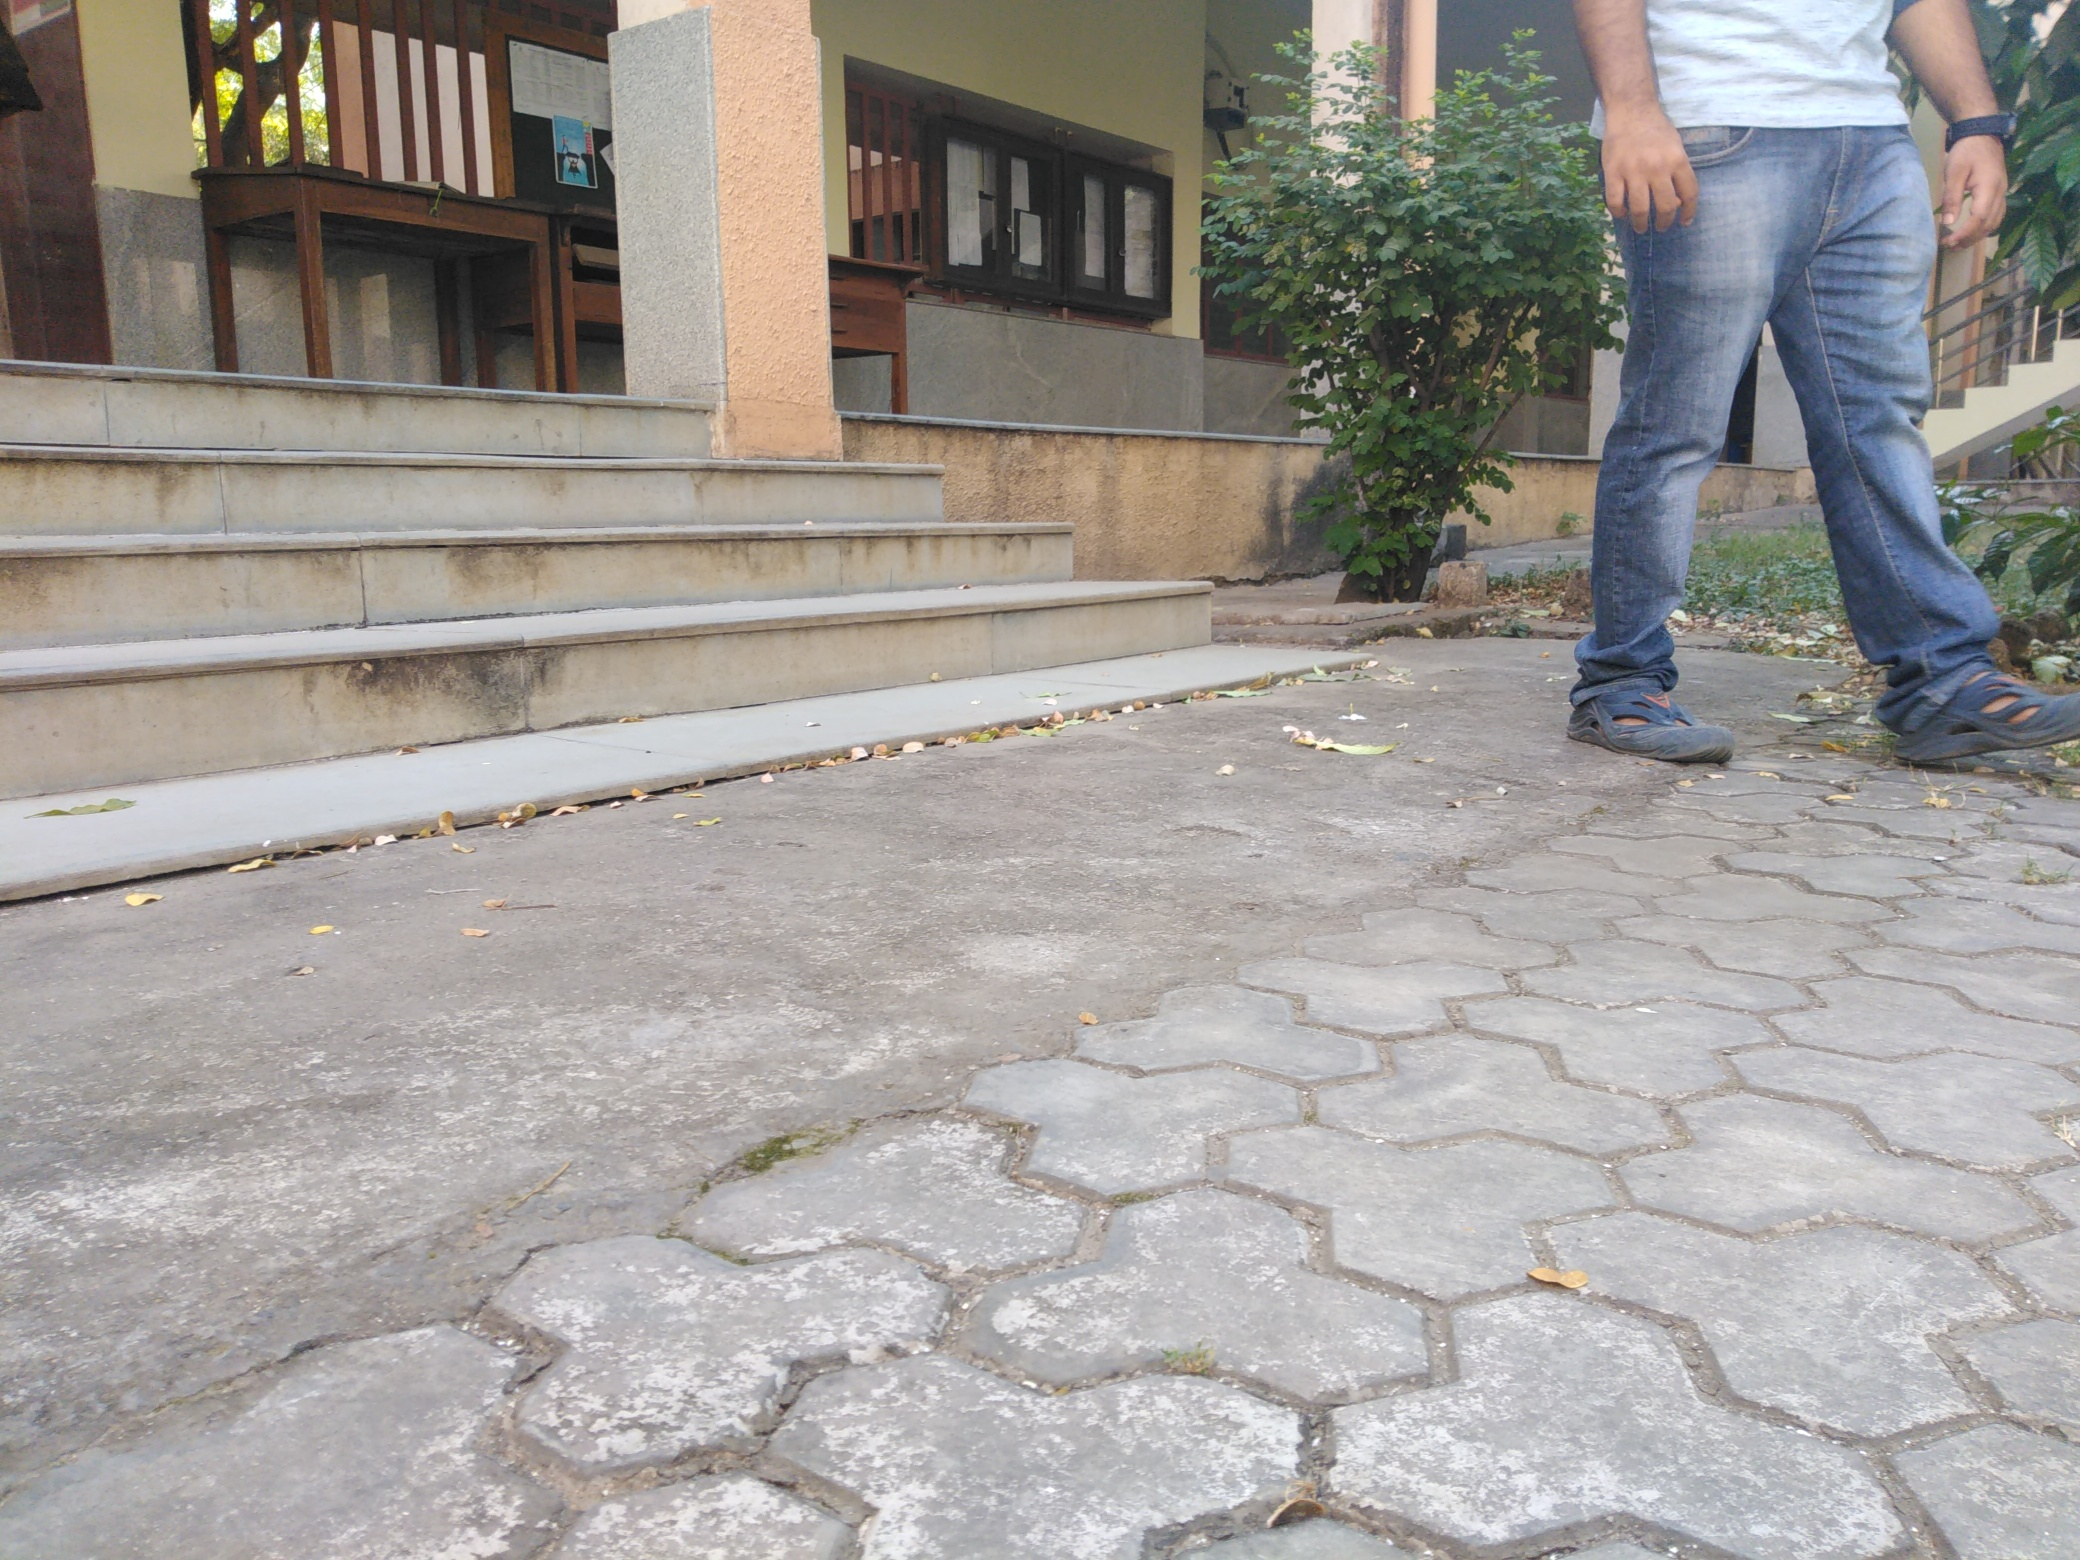stairs_up: (8, 352, 1186, 724)
